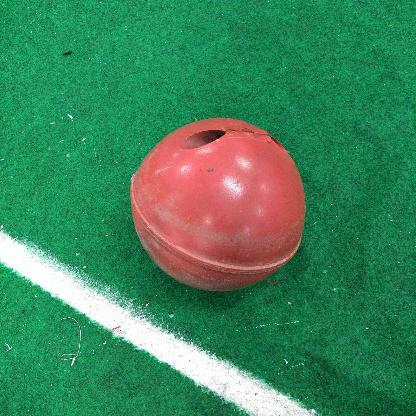red_buoy: (129, 117, 304, 296)
